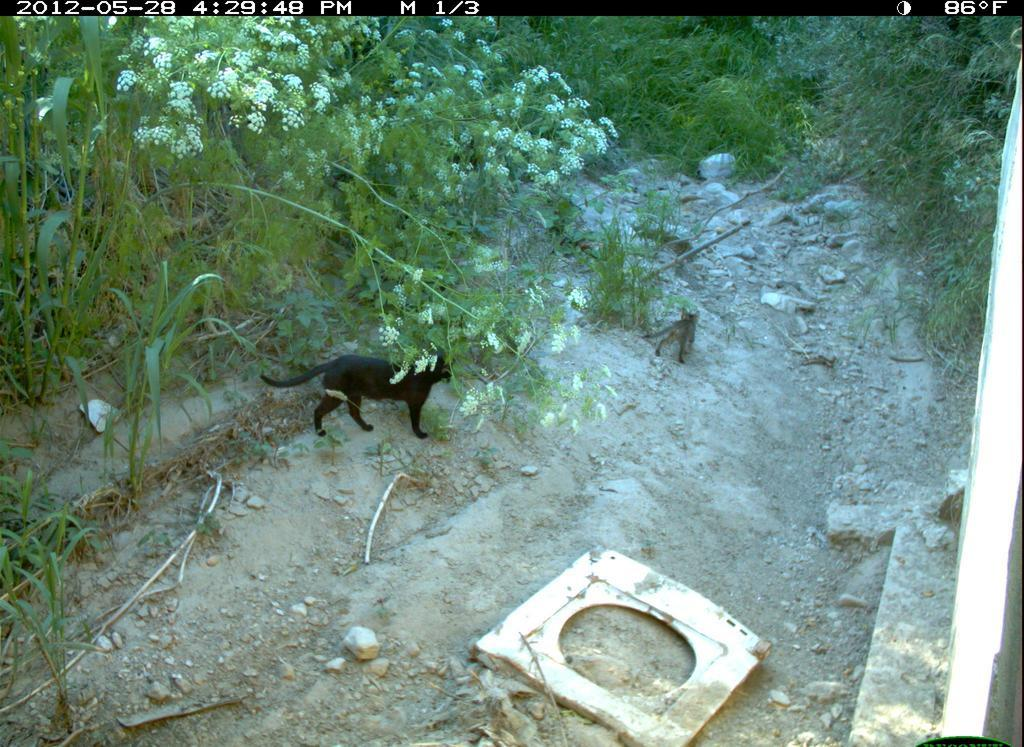cat: (256, 343, 459, 443)
